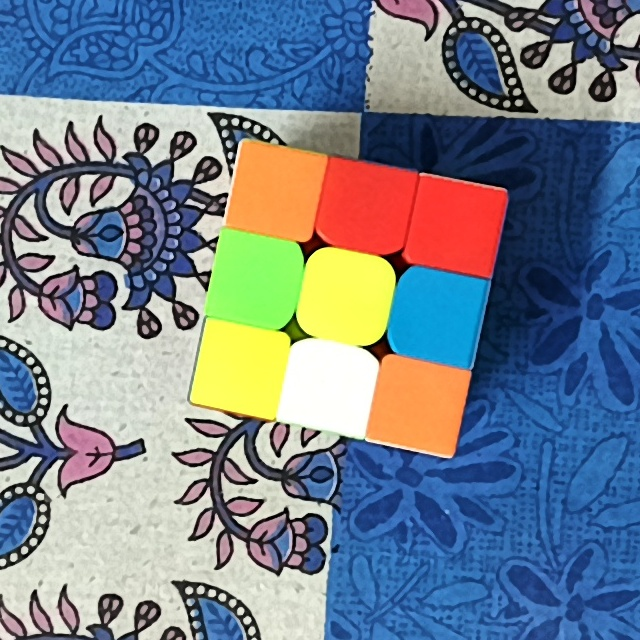tile: (331, 171, 399, 241), (408, 282, 471, 349), (429, 195, 492, 261), (220, 253, 286, 316), (318, 264, 379, 330), (245, 161, 309, 220), (391, 376, 454, 435), (293, 358, 358, 414), (205, 343, 272, 393)
